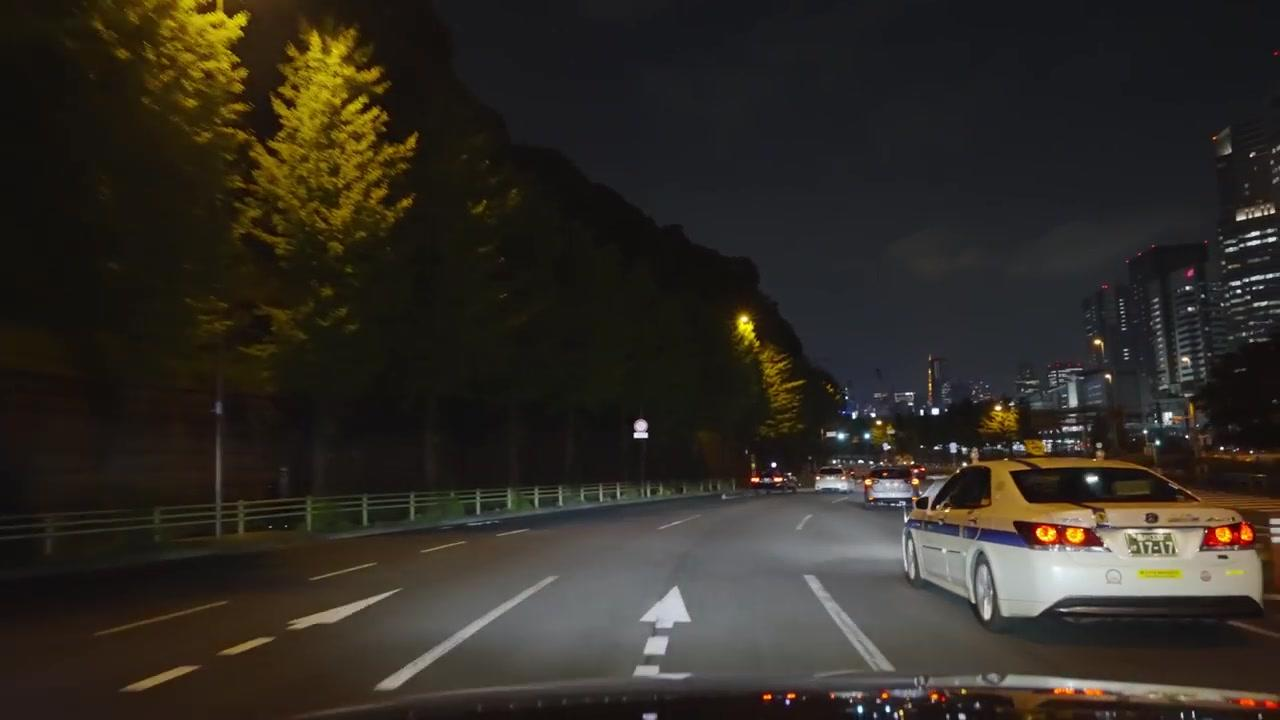car: (900, 453, 1267, 633), (863, 465, 916, 510), (755, 473, 796, 492), (815, 476, 848, 494)
